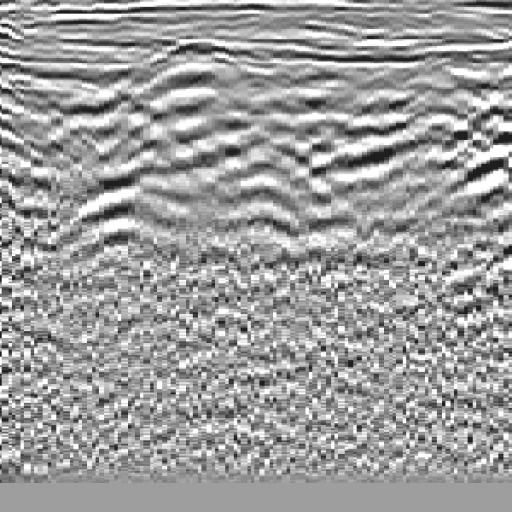metalic: (51, 52, 206, 284)
nonmetalic: (340, 56, 512, 290)
